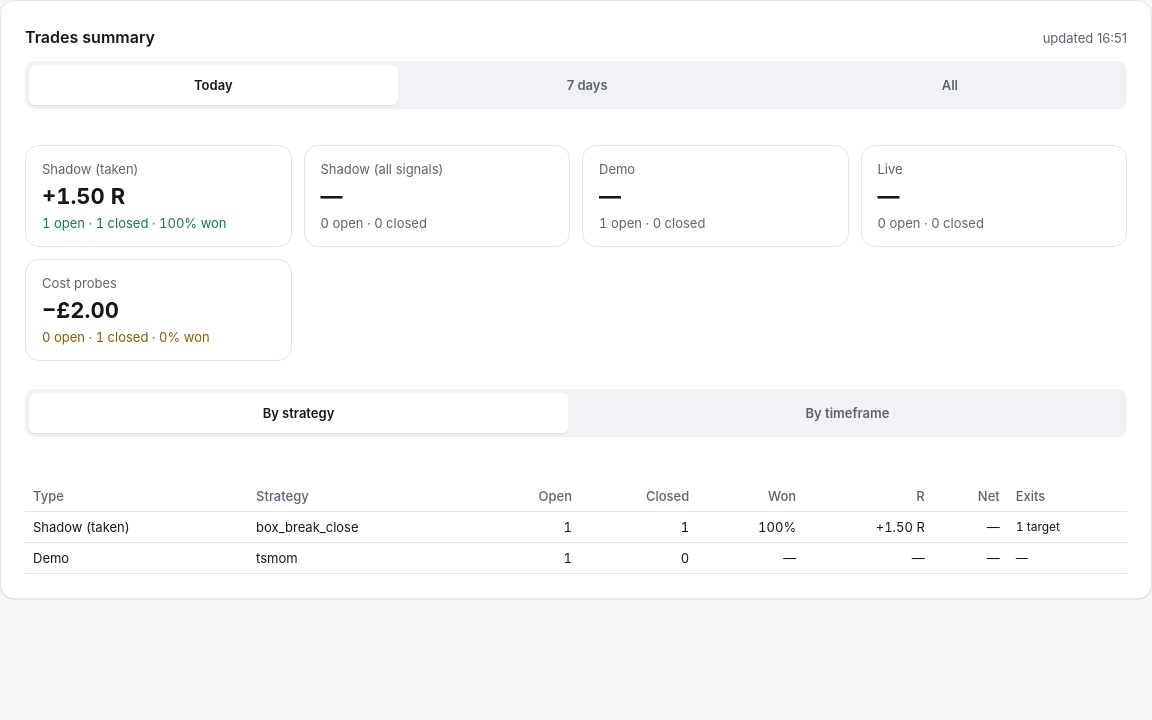
Test: Trades summary › switches period and breakdown
The width and height of the screenshot is (1152, 720).
Expected: the number of rows is 3, [25, 481, 1127, 512]; [25, 512, 1127, 542]; [25, 542, 1127, 574]
Step 1. Click the tab "7 days" → [587, 85], box [402, 65, 773, 105]
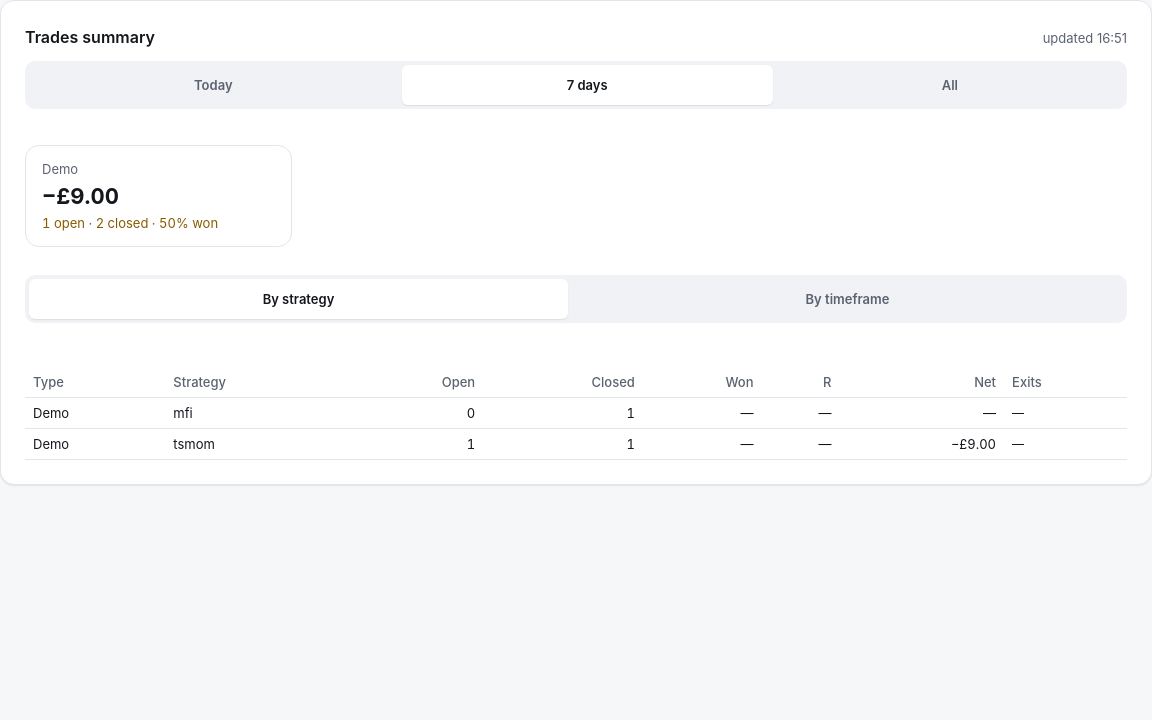
Expected: the table shows "−£9.00", [951, 436, 996, 452]
Step 2. Click the tab "By timeframe" → [847, 299], box [572, 279, 1123, 319]
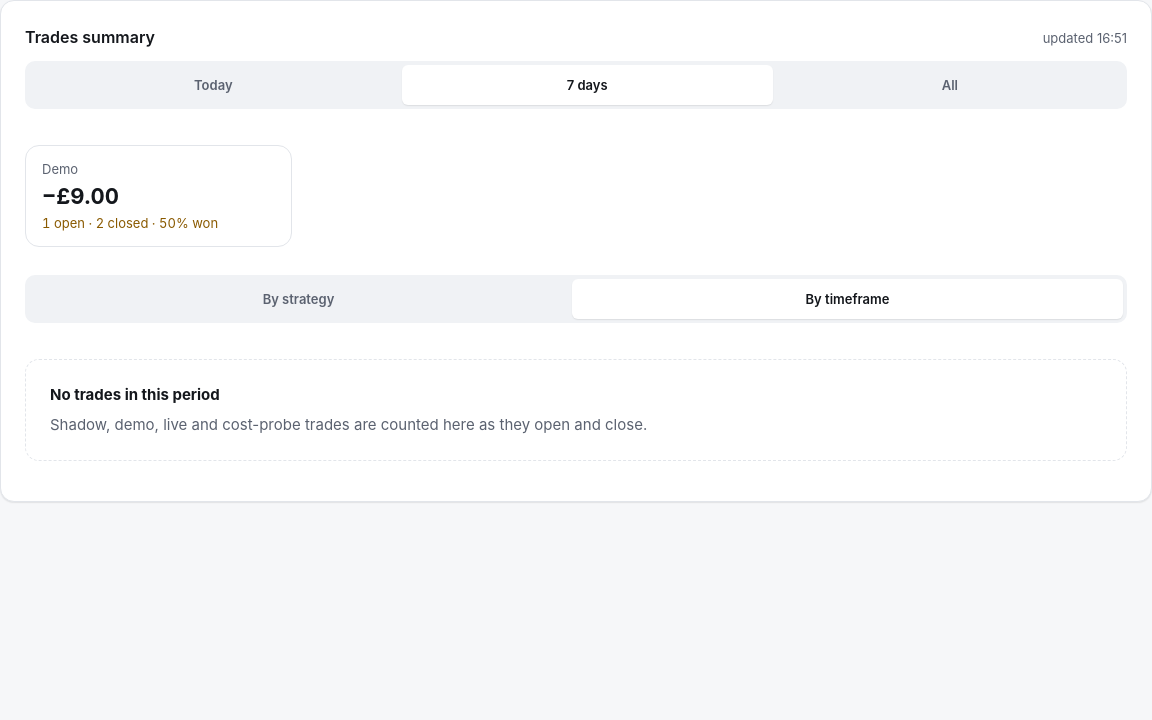
Expected: the text "No trades in this period" is shown, [50, 384, 220, 406]
Step 3. Click the tab "Today" → [213, 85], box [29, 65, 398, 105]
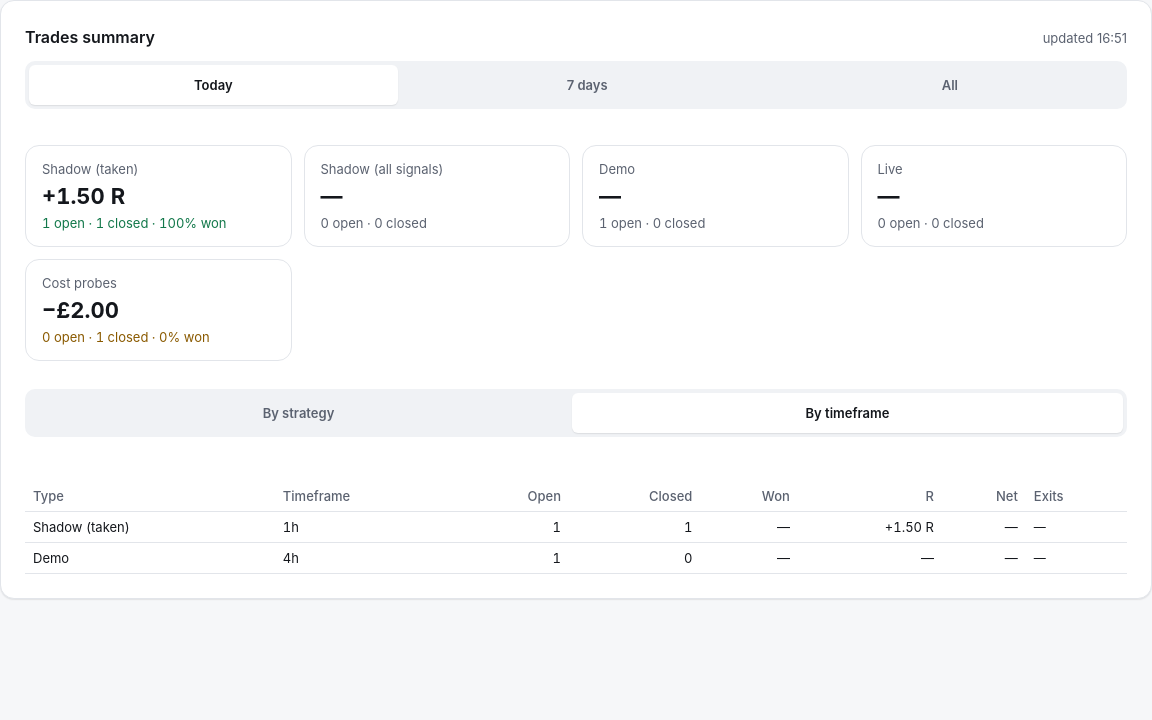
Expected: the table shows "4h", [283, 550, 299, 566]
